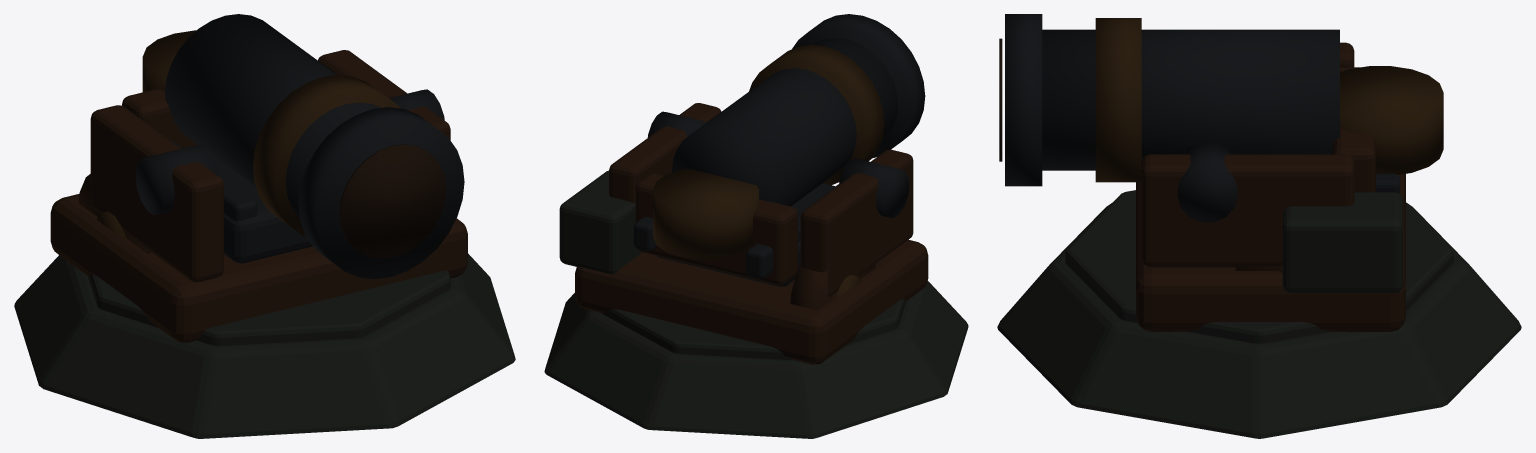
The model's file is TowerSiege2.obj.
3 views of the same model, side by side, from view 1: azimuth 30°, elevation 25°; view 2: azimuth 150°, elevation 25°; view 3: azimuth 270°, elevation 25° (orthographic). The views are drawn at different scales.
Parts seen in each view (by area): view 1: limestone_socket_lower_course, oak_carriage, forged_mortar_barrel, carriage_cheek, black_muzzle_rim, limestone_socket_upper_course, dark_bore, bronze_reinforce_collar, iron_cradle, iron_trunnion, carriage_cheek.001, recoil_stop (+4 smaller); view 2: limestone_socket_lower_course, oak_carriage, forged_mortar_barrel, carriage_cheek, counterweight, stone_ammo_chest, black_muzzle_rim, bronze_reinforce_collar, recoil_stop, limestone_socket_upper_course, carriage_cheek.001, iron_trunnion (+5 smaller); view 3: limestone_socket_lower_course, forged_mortar_barrel, carriage_cheek.001, oak_carriage, stone_ammo_chest, limestone_socket_upper_course, counterweight, bronze_reinforce_collar, black_muzzle_rim, iron_trunnion.001, recoil_stop.
Part boxes in pixels (left/top/right/bottom): limestone_socket_lower_course: left=14, top=253, right=515, bottom=438; oak_carriage: left=50, top=193, right=467, bottom=342; forged_mortar_barrel: left=165, top=14, right=381, bottom=218; carriage_cheek: left=90, top=105, right=223, bottom=282; black_muzzle_rim: left=298, top=107, right=464, bottom=279; limestone_socket_upper_course: left=88, top=270, right=450, bottom=345; dark_bore: left=339, top=144, right=446, bottom=258; bronze_reinforce_collar: left=253, top=75, right=401, bottom=236; iron_cradle: left=211, top=154, right=312, bottom=263; iron_trunnion: left=135, top=144, right=218, bottom=215; carriage_cheek.001: left=318, top=50, right=450, bottom=140; recoil_stop: left=122, top=89, right=197, bottom=148; limestone_socket_lower_course: left=544, top=281, right=968, bottom=438; oak_carriage: left=575, top=239, right=928, bottom=364; forged_mortar_barrel: left=672, top=37, right=898, bottom=206; carriage_cheek: left=800, top=149, right=913, bottom=296; counterweight: left=653, top=168, right=758, bottom=259; stone_ammo_chest: left=559, top=170, right=642, bottom=274; black_muzzle_rim: left=792, top=14, right=925, bottom=158; bronze_reinforce_collar: left=749, top=45, right=884, bottom=185; recoil_stop: left=635, top=173, right=797, bottom=285; limestone_socket_upper_course: left=601, top=299, right=906, bottom=360; carriage_cheek.001: left=609, top=103, right=721, bottom=203; iron_trunnion: left=839, top=158, right=909, bottom=217; limestone_socket_lower_course: left=997, top=203, right=1521, bottom=438; forged_mortar_barrel: left=1042, top=29, right=1339, bottom=170; carriage_cheek.001: left=1141, top=154, right=1354, bottom=267; oak_carriage: left=1136, top=174, right=1405, bottom=331; stone_ammo_chest: left=1282, top=192, right=1403, bottom=293; limestone_socket_upper_course: left=1065, top=190, right=1453, bottom=343; counterweight: left=1340, top=66, right=1443, bottom=174; bronze_reinforce_collar: left=1095, top=18, right=1141, bottom=182; black_muzzle_rim: left=1005, top=14, right=1042, bottom=186; iron_trunnion.001: left=1177, top=142, right=1237, bottom=222; recoil_stop: left=1332, top=67, right=1375, bottom=192.
Bounding box in the file's own units: 1.82 × 1.18 × 1.82.
